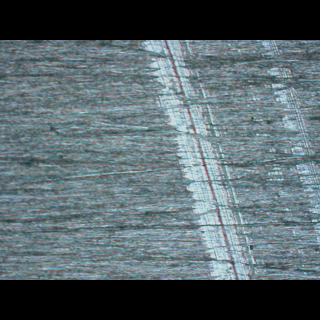d: (141, 39, 261, 279), (261, 41, 319, 244)
